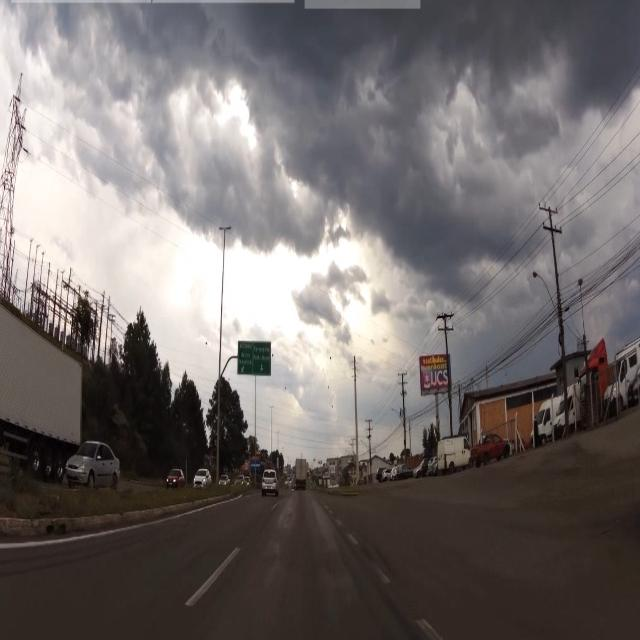I-4: (238, 341, 270, 376)
